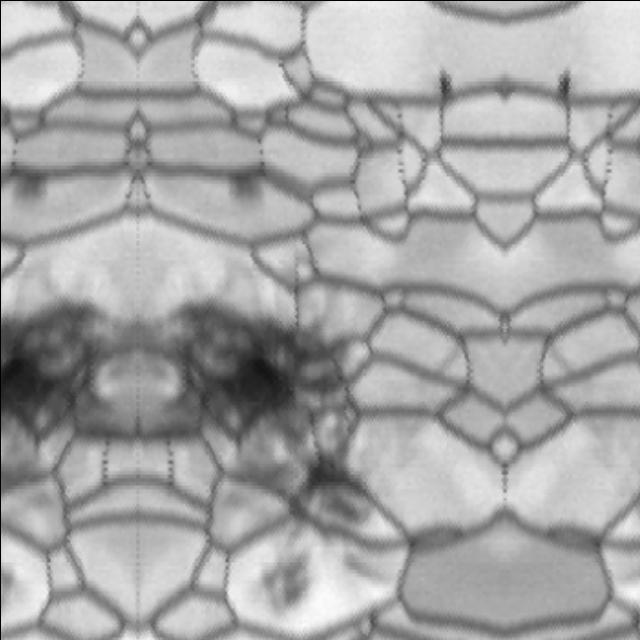good_void: (130, 267, 377, 556), (0, 285, 136, 498), (243, 530, 316, 607), (214, 148, 286, 214), (0, 149, 59, 218), (332, 543, 395, 590), (534, 55, 584, 110), (423, 53, 469, 110), (0, 545, 26, 605), (616, 551, 640, 585)
